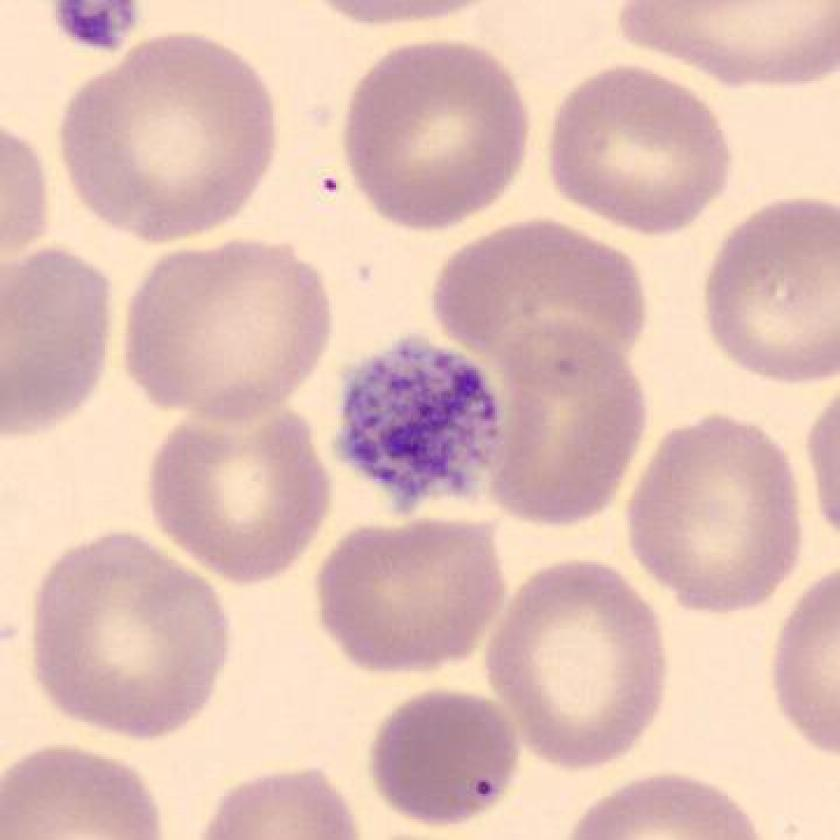platelets: (318, 323, 519, 524)
